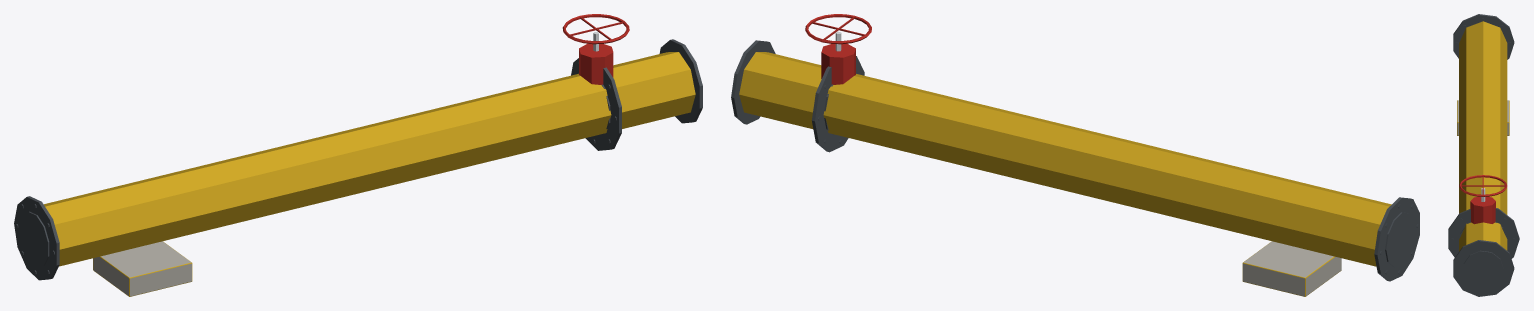
The model's file is gam_pipe_end.glb.
3 renders of one model, left to right at view 1: azimuth 30°, elevation 25°; view 2: azimuth 150°, elevation 25°; view 3: azimuth 270°, elevation 25°, orthographic. The views are drawn at different scales.
Visible parts, largest first — view 1: gam_pipe_end; view 2: gam_pipe_end; view 3: gam_pipe_end.
Boxes of the visible parts, x1=… form: gam_pipe_end: x1=14, y1=14, x2=702, y2=296; gam_pipe_end: x1=731, y1=14, x2=1419, y2=296; gam_pipe_end: x1=1448, y1=14, x2=1519, y2=296.
Bounding box in the file's own units: 12.31 × 2.5 × 1.63.
